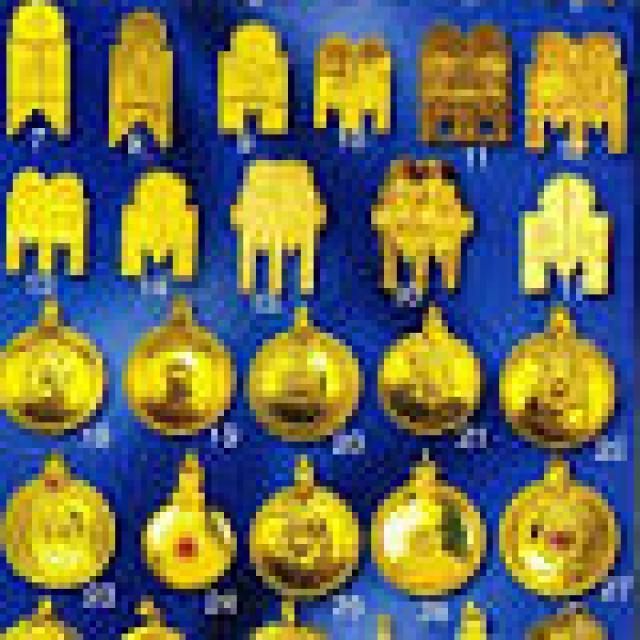dal: (367, 466, 489, 604), (247, 469, 370, 601), (242, 318, 363, 442), (120, 316, 241, 434), (3, 321, 112, 433), (217, 36, 290, 137), (6, 20, 69, 132)
veg-fry: (364, 463, 491, 608), (493, 323, 620, 449), (372, 313, 488, 437)
